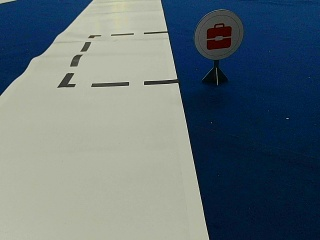company: (195, 8, 244, 58)
